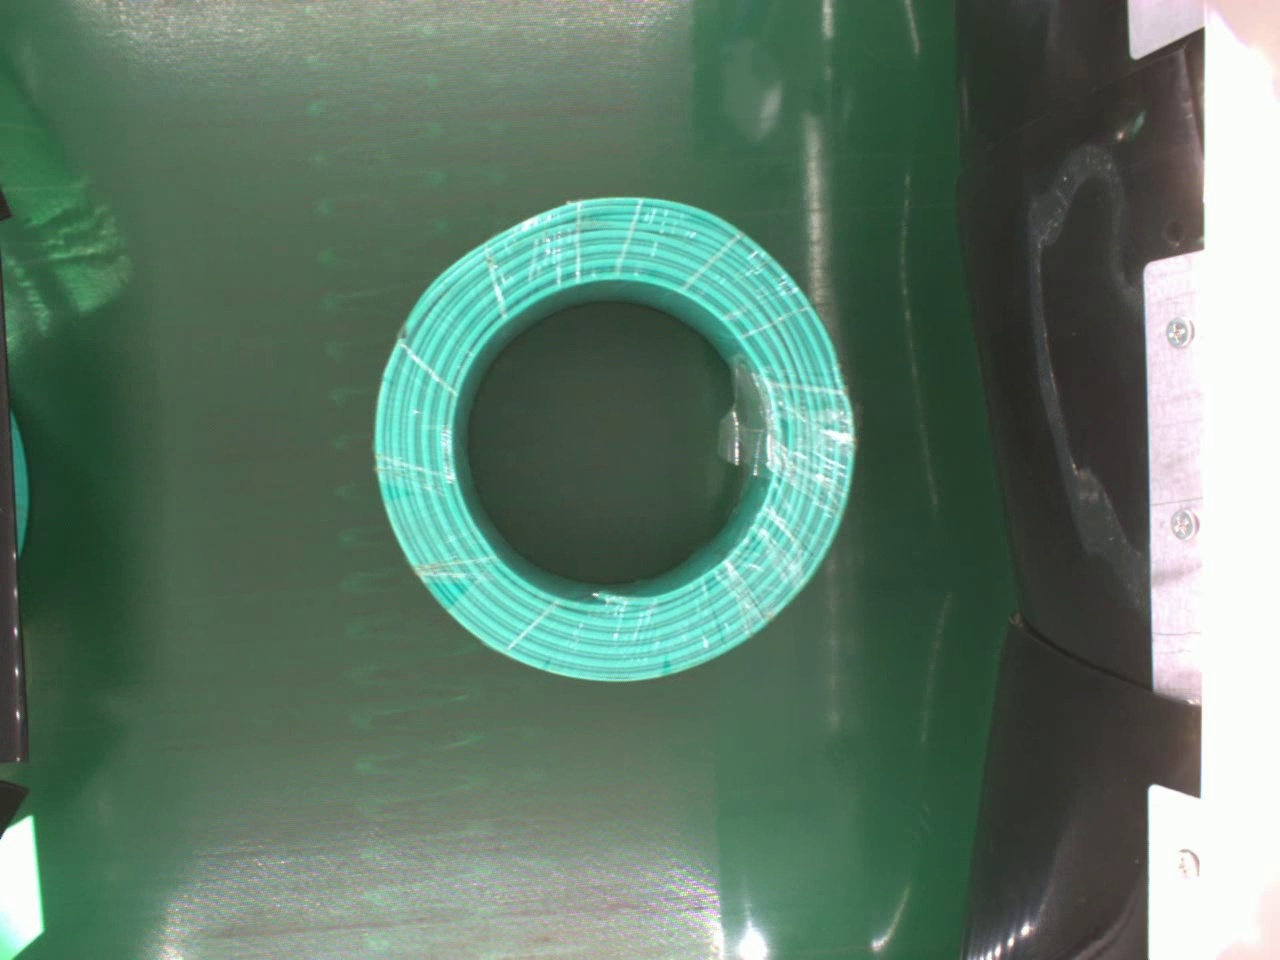green: (374, 195, 859, 685)
